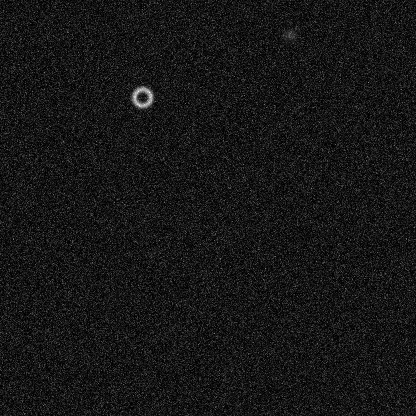Ring: (130, 85, 154, 109)
Spot: (282, 26, 298, 42)
